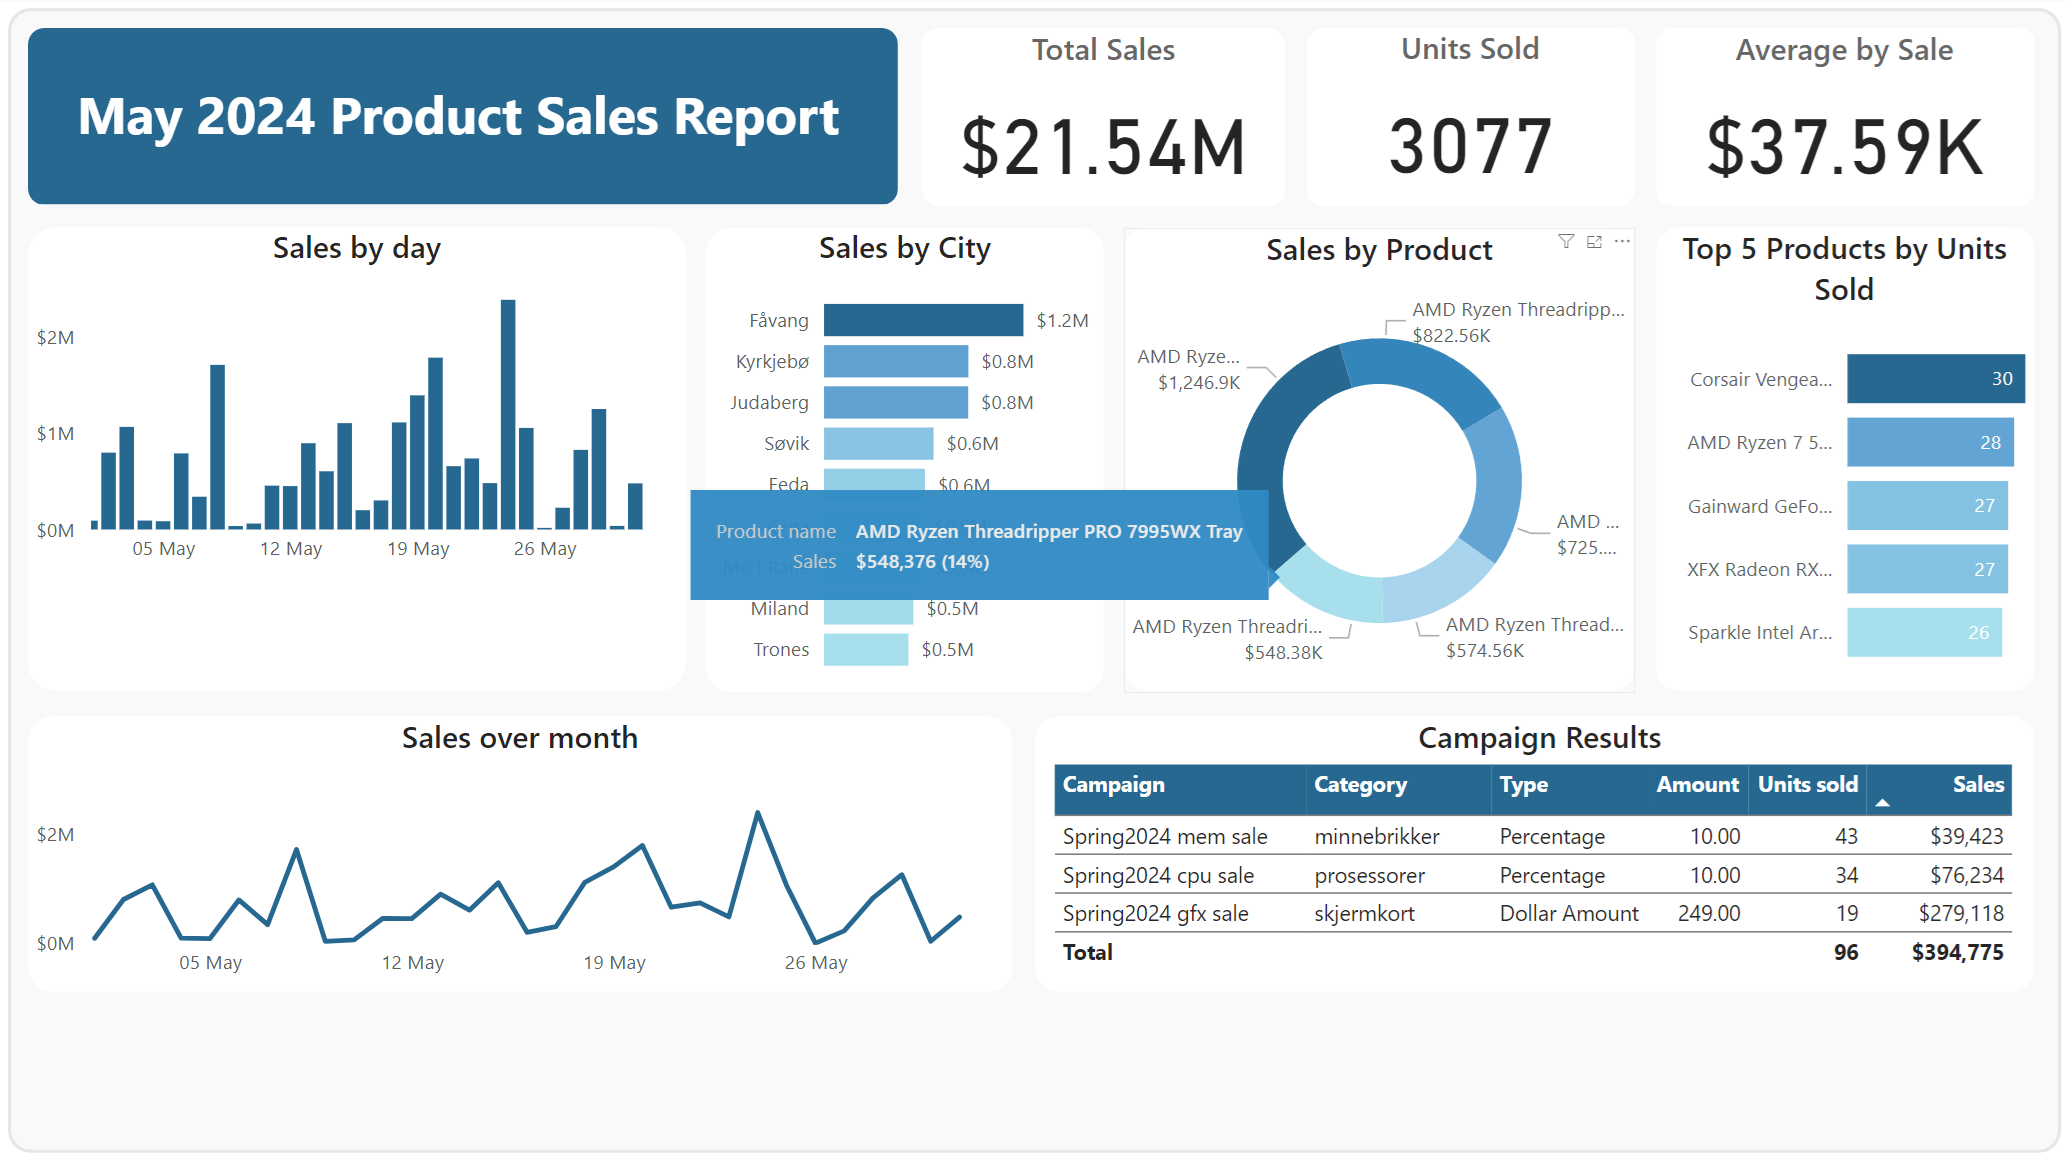

This screenshot's page, from the dashboard's own definition file:
{"tool":"powerbi","page":{"name":"Overview","canvas":[1280,720],"ordinal":0},"visuals":[{"type":"shape","box":[4.9,5.6,1269.9,710.1],"z":0},{"type":"shape","box":[1028,16.7,235.7,112],"z":500},{"type":"shape","box":[779.4,16.7,235.7,112],"z":750},{"type":"shape","box":[528.9,16.7,235.7,112],"z":875},{"type":"card","title":"Total Sales","fields":{"Values":["Sum(public fact_product_sale.extended_sales_amount)"]},"box":[528.9,16.7,235.7,112],"z":1000},{"type":"card","title":"Units Sold","fields":{"Values":["Sum(public fact_product_sale.quantity)"]},"box":[779.4,16.7,235.7,112],"z":2000},{"type":"card","title":"Average Sales","fields":{"Values":["Avg(public fact_product_sale.extended_sales_amount)"]},"box":[1028,16.7,235.7,112],"z":3000},{"type":"shape","box":[17.8,16.5,496.9,112.3],"z":3500},{"type":"slicer","fields":{"Values":["public dim_date.date.Variation.Date Hierarchy.Year"]},"box":[17.9,27.8,210.3,89.7],"z":4000},{"type":"slicer","fields":{"Values":["public dim_date.date.Variation.Date Hierarchy.Month"]},"box":[243.7,27.8,210.9,89.7],"z":5000},{"type":"shape","box":[467.6,139.2,236.3,287.6],"z":6000},{"type":"clusteredBarChart","title":"Sales by City","fields":{"Category":["public dim_location.city_name"],"Y":["Sum(public fact_product_sale.extended_sales_amount)"]},"box":[467.6,139.8,236.3,287.6],"z":7000},{"type":"shape","box":[1027.4,139.8,236.3,287.6],"z":8000},{"type":"shape","box":[716.9,139.2,298.1,287.6],"z":9000},{"type":"donutChart","title":"Sales by Product","fields":{"Category":["public dim_product.product_name"],"Y":["Sum(public fact_product_sale.extended_sales_amount)"]},"box":[716.9,140.4,298.1,287.6],"z":10000},{"type":"shape","box":[17.9,139.2,436.7,287.6],"z":11000},{"type":"clusteredBarChart","title":"Top 5 Products by Units Sold","fields":{"Category":["public dim_product.product_name"],"Y":["Sum(public fact_product_sale.quantity)"]},"box":[1031.1,139.2,228.2,287.6],"z":12000},{"type":"clusteredColumnChart","title":"Sales by day","fields":{"Y":["Sum(public fact_product_sale.extended_sales_amount)"],"Category":["public dim_date.date"]},"box":[17.9,139.2,436.7,285.8],"z":13000},{"type":"shape","box":[17.9,438.6,616.1,183.7],"z":14000},{"type":"shape","box":[647,438.6,616.7,183.7],"z":15000},{"type":"lineChart","title":"Sales over month","fields":{"Y":["Sum(public fact_product_sale.extended_sales_amount)"],"Category":["public dim_date.date"]},"box":[17.9,438.6,616.1,183.7],"z":16000},{"type":"tableEx","title":"Campaign Results","fields":{"Values":["public dim_discount.discount_name","public dim_product.product_category","public dim_discount.discount_type","public dim_discount.discount_amount","Sum(public fact_product_sale.quantity)","Sum(public fact_product_sale.extended_sales_amount)"]},"box":[655.1,438.6,608.7,183.7],"z":17000}]}

Visuals, with their boxes in screenshot pixels (x1, y1, x2, y2), scaled from the page's 1280x720 canvas onto the 2068x1164 screenshot:
shape: locate(8, 9, 2060, 1157)
shape: locate(1661, 27, 2042, 208)
shape: locate(1259, 27, 1640, 208)
shape: locate(855, 27, 1235, 208)
"Total Sales" card: locate(855, 27, 1235, 208)
"Units Sold" card: locate(1259, 27, 1640, 208)
"Average Sales" card: locate(1661, 27, 2042, 208)
shape: locate(29, 27, 832, 208)
slicer - public dim_date.date.Variation.Date Hierarchy.Year: locate(29, 45, 369, 190)
slicer - public dim_date.date.Variation.Date Hierarchy.Month: locate(394, 45, 734, 190)
shape: locate(755, 225, 1137, 690)
"Sales by City" clusteredBarChart: locate(755, 226, 1137, 691)
shape: locate(1660, 226, 2042, 691)
shape: locate(1158, 225, 1640, 690)
"Sales by Product" donutChart: locate(1158, 227, 1640, 692)
shape: locate(29, 225, 734, 690)
"Top 5 Products by Units Sold" clusteredBarChart: locate(1666, 225, 2035, 690)
"Sales by day" clusteredColumnChart: locate(29, 225, 734, 687)
shape: locate(29, 709, 1024, 1006)
shape: locate(1045, 709, 2042, 1006)
"Sales over month" lineChart: locate(29, 709, 1024, 1006)
"Campaign Results" tableEx: locate(1058, 709, 2042, 1006)
